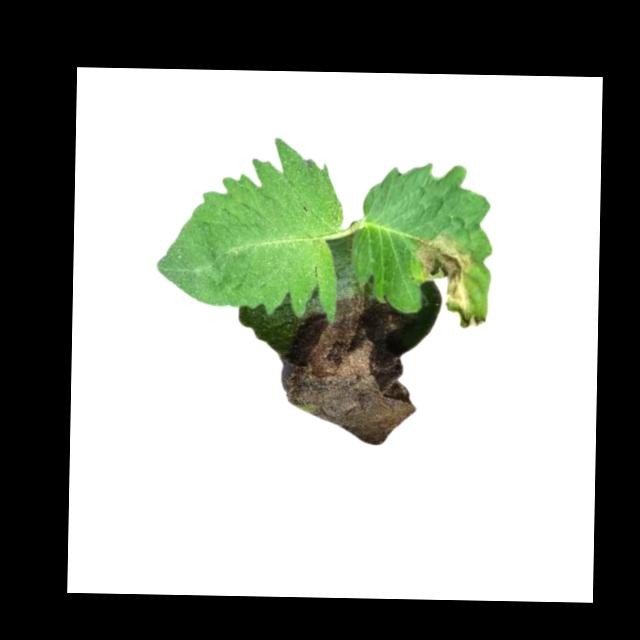Late_blight: (279, 294, 431, 446), (407, 234, 487, 331)
healthy: (154, 135, 345, 321)
